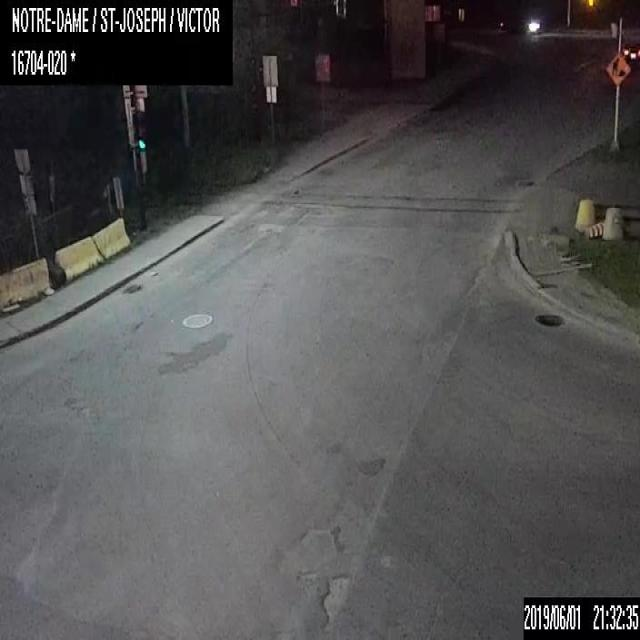construction: (606, 52, 630, 82), (588, 220, 604, 237)
vehicle: (622, 42, 639, 60)
